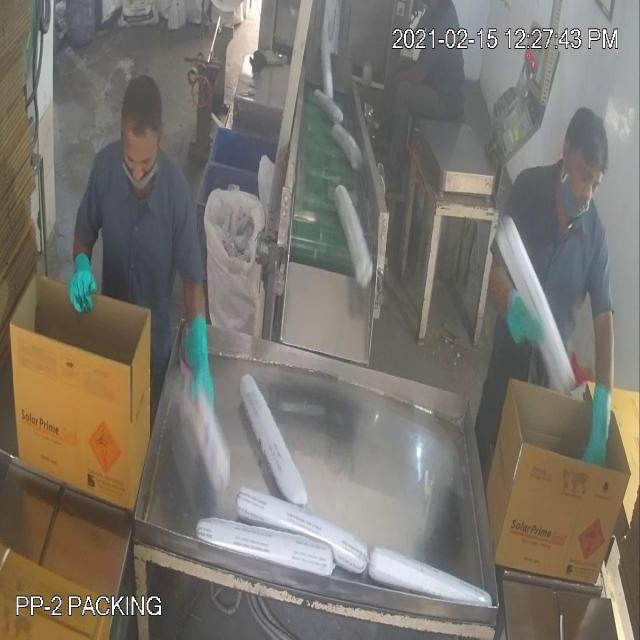gloves: (572, 299, 621, 473), (178, 272, 224, 427), (490, 269, 550, 368), (59, 230, 103, 334)
